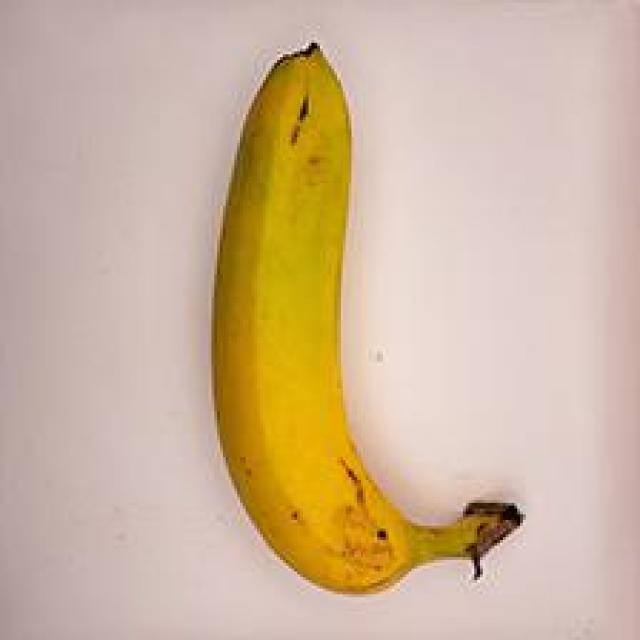Ripe: (165, 30, 540, 611)
